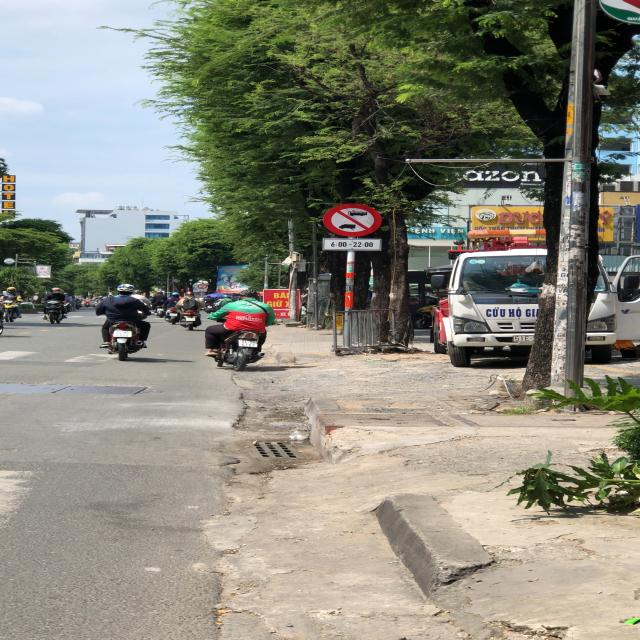Bien bao cam xe oto khach va xe oto tai: (317, 202, 388, 237)
